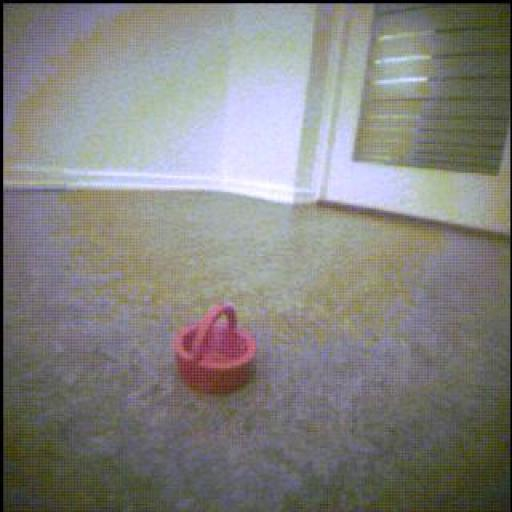Bucket: (174, 305, 257, 395)
